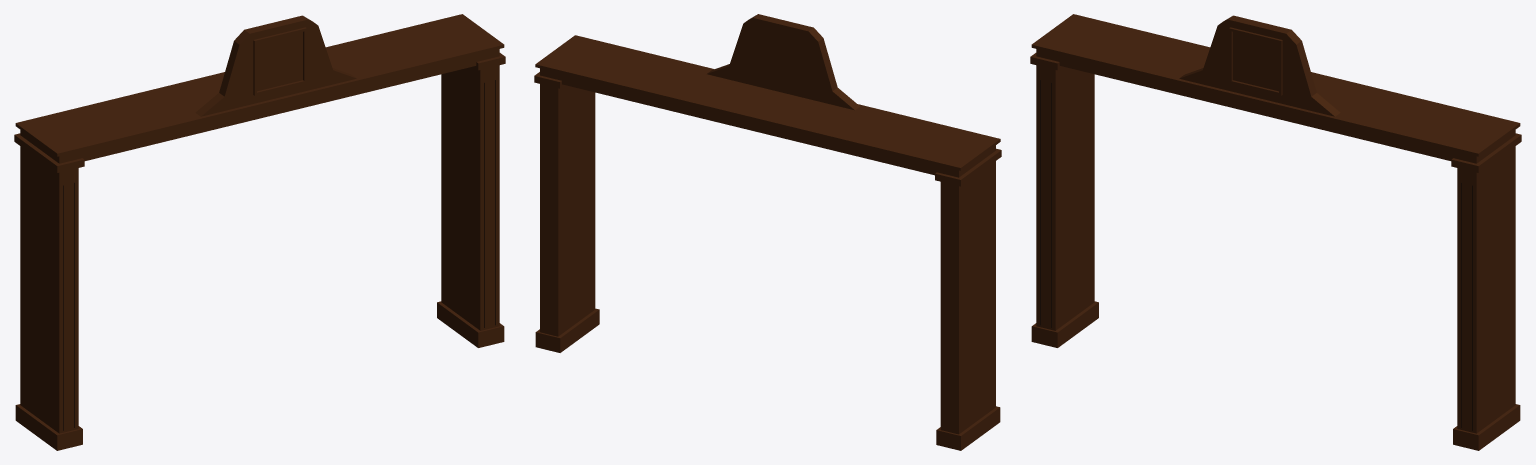
The model's file is ShelfFrame-reference.obj.
The picture shows the model from 3 angles, left to right: view 1: azimuth 30°, elevation 25°; view 2: azimuth 150°, elevation 25°; view 3: azimuth 330°, elevation 25°; orthographic projection. The views are drawn at different scales.
Size of the model in its own units: 5.04 by 3.96 by 0.8382.
